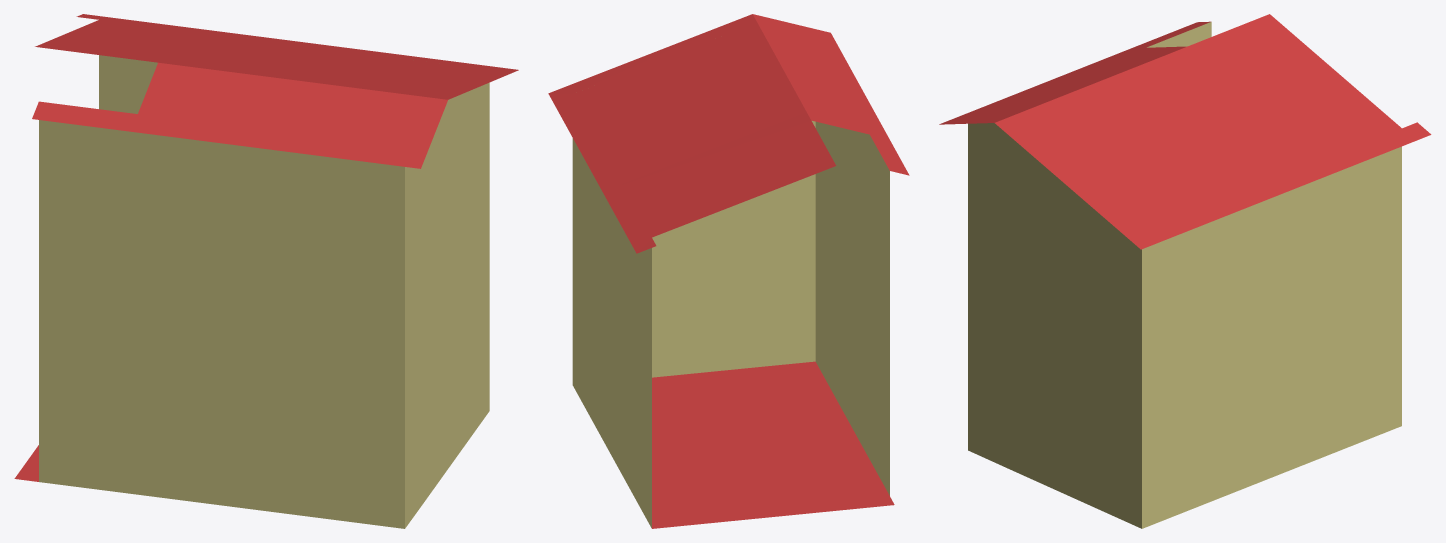
The picture shows the model from 3 angles, left to right: view 1: azimuth 30°, elevation 25°; view 2: azimuth 150°, elevation 25°; view 3: azimuth 270°, elevation 25°; orthographic projection. The views are drawn at different scales.
Bounding box in the file's own units: 10.98 × 11.8 × 9.3.
